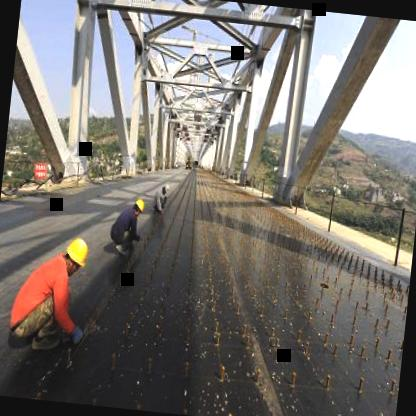helmet: (60, 234, 92, 278), (130, 196, 145, 216)
